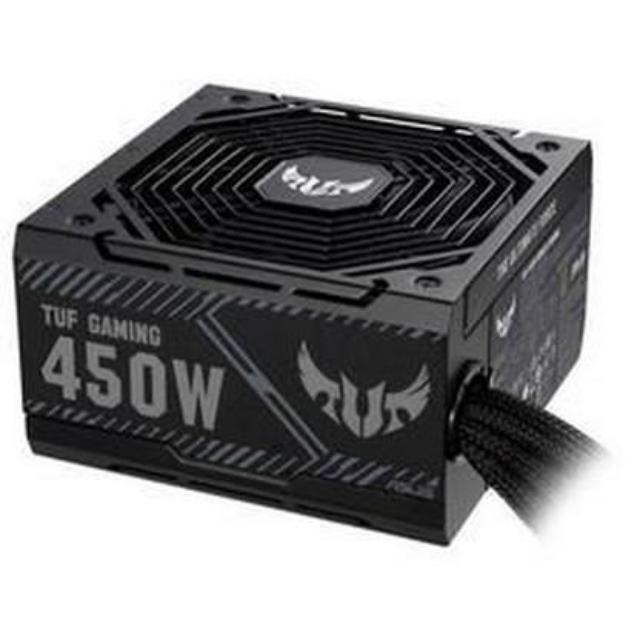PSU: (2, 76, 596, 550)
